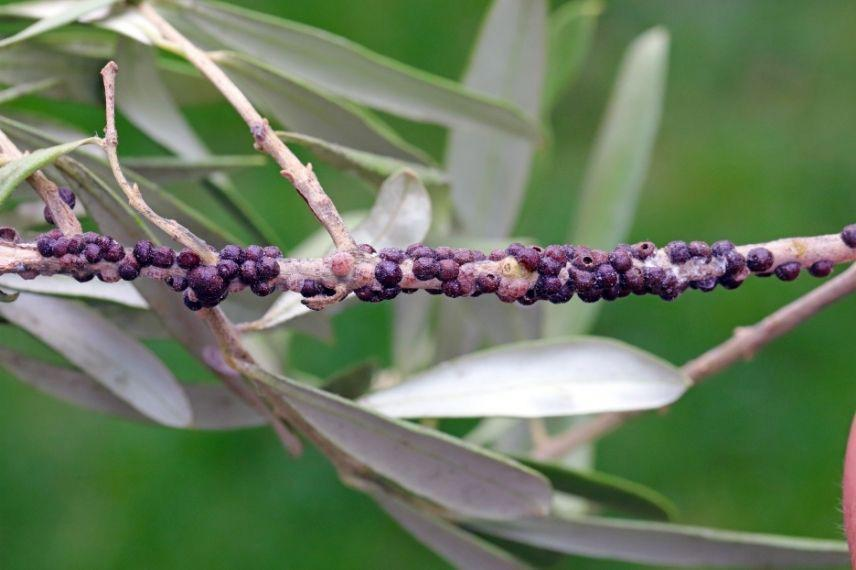BlackScale: (0, 222, 856, 316)
